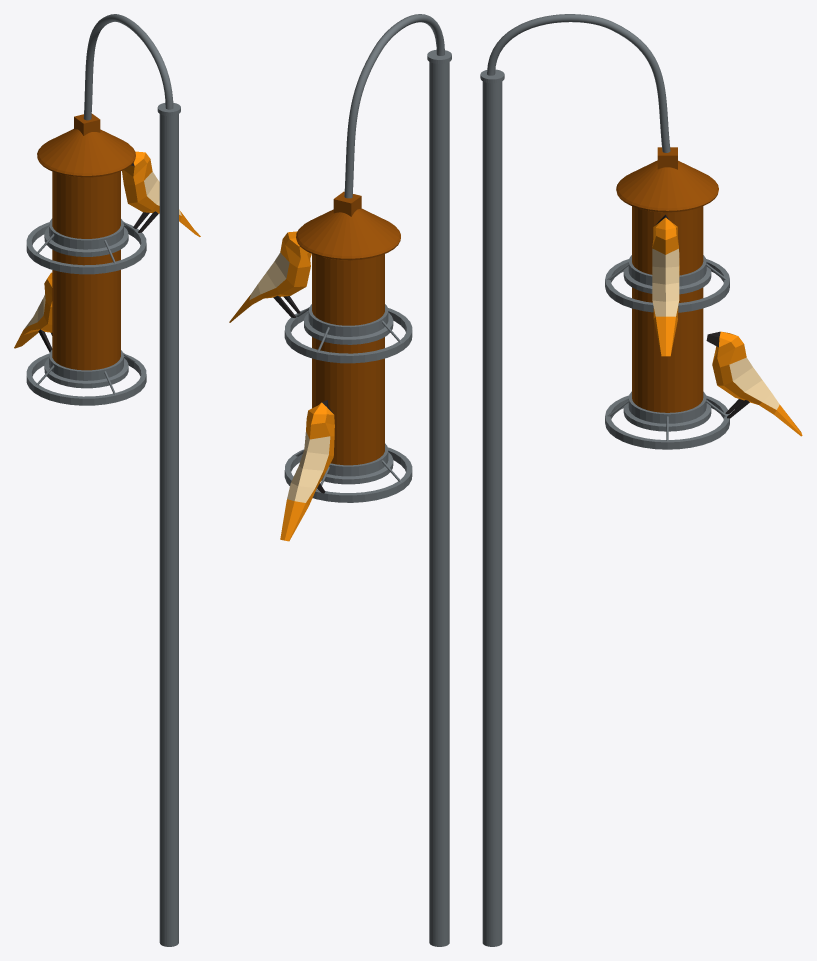
The model's file is BirdFeeder.fbx.
The picture shows the model from 3 angles, left to right: view 1: azimuth 30°, elevation 25°; view 2: azimuth 150°, elevation 25°; view 3: azimuth 270°, elevation 25°; orthographic projection. The views are drawn at different scales.
Parts seen in each view (by area): view 1: Cylinder.004, cable; view 2: Cylinder.004, cable; view 3: Cylinder.004, cable.
Part boxes in pixels (box(x1,y1,x2,y2)): Cylinder.004: box(14, 103, 200, 946); cable: box(83, 14, 173, 120); Cylinder.004: box(229, 49, 451, 946); cable: box(344, 14, 444, 198); Cylinder.004: box(480, 69, 802, 946); cable: box(487, 14, 670, 152).
Size of the model in its own units: 241 by 1258 by 395.
